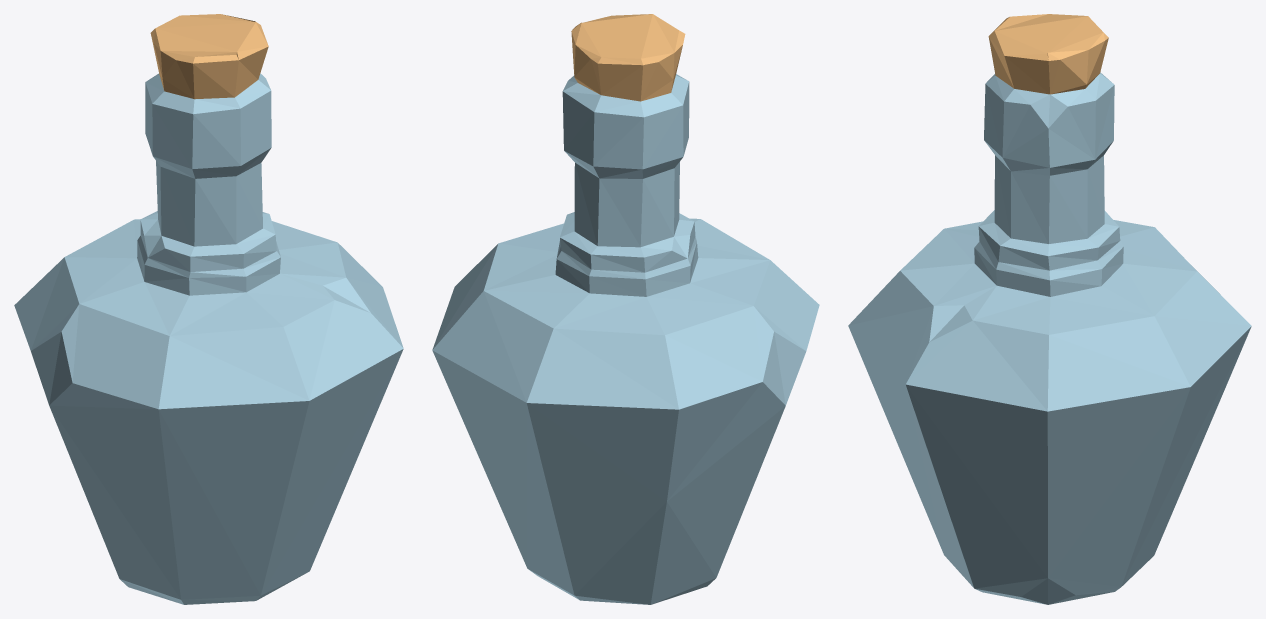
File: SFHW_Bottle_002.fbx
The picture shows the model from 3 angles, left to right: view 1: azimuth 30°, elevation 25°; view 2: azimuth 150°, elevation 25°; view 3: azimuth 270°, elevation 25°; orthographic projection.
Parts seen in each view (by area): view 1: SFHW_Bottle_002; view 2: SFHW_Bottle_002; view 3: SFHW_Bottle_002.
Part boxes in pixels (x1,y1,x2,y2): SFHW_Bottle_002: (14, 14, 403, 604); SFHW_Bottle_002: (432, 14, 819, 604); SFHW_Bottle_002: (848, 14, 1251, 604).
Size of the model in its own units: 13.55 by 20.82 by 14.23.
